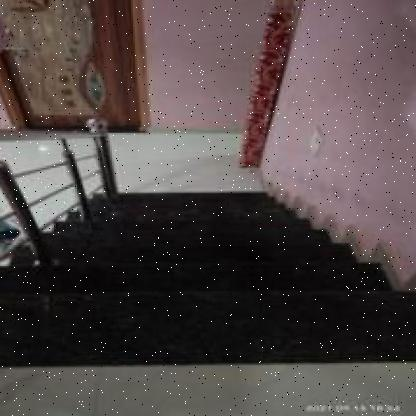stair_down: (13, 194, 350, 350)
